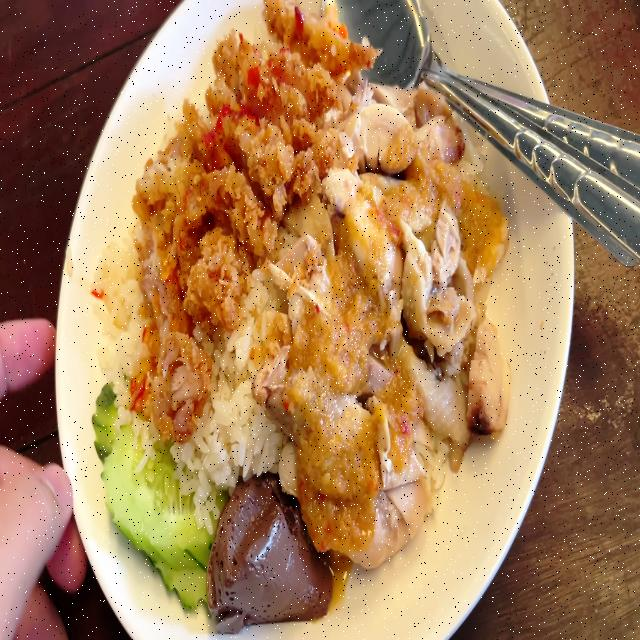boiled_chicken: (282, 94, 501, 526)
boiled_chicken_blood_jelly: (215, 465, 320, 626)
chicken_rice: (92, 7, 506, 625)
cucumber: (91, 373, 213, 614)
fried_chicken: (116, 8, 354, 413)
